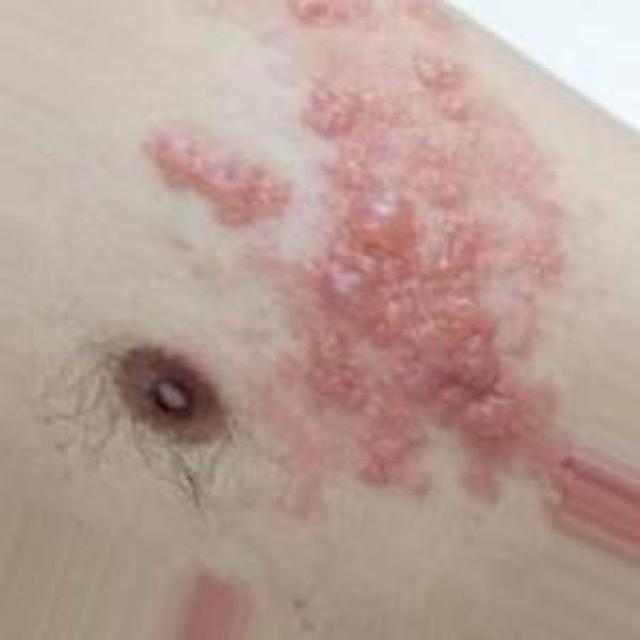Shingles: (146, 46, 564, 498)
